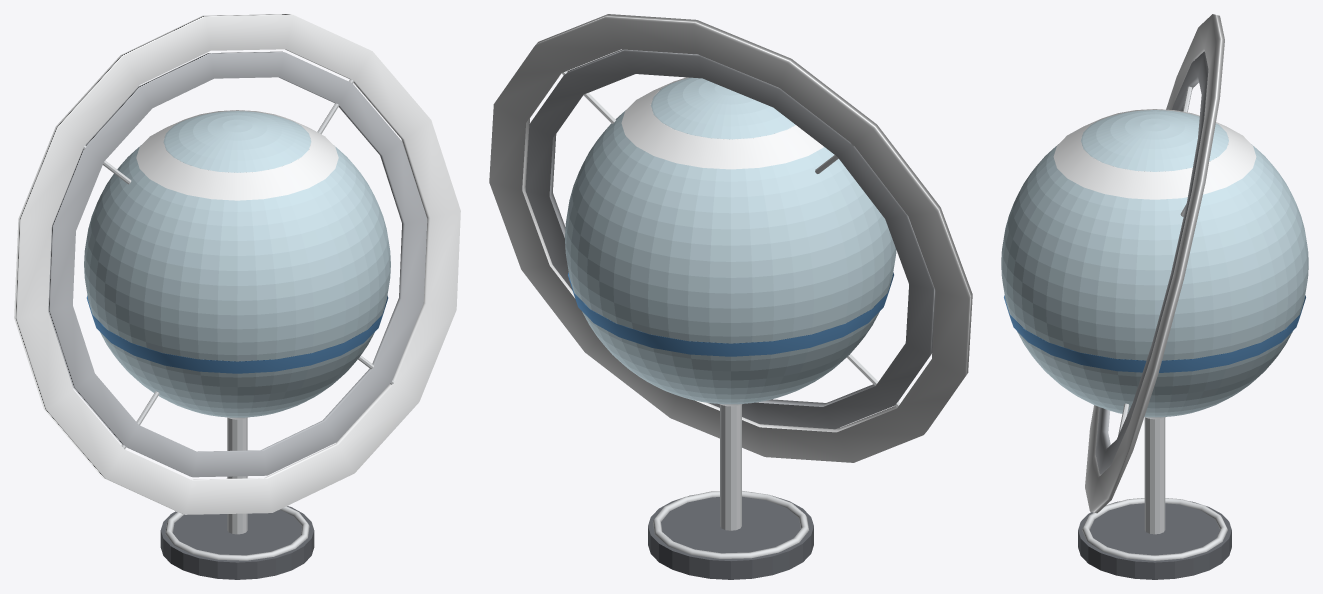
File: solar-system-and-astronauts-uranus-model-99f732c5__39236.glb
3 views of the same model, side by side, from view 1: azimuth 30°, elevation 25°; view 2: azimuth 150°, elevation 25°; view 3: azimuth 270°, elevation 25° (orthographic). The views are drawn at different scales.
Visible parts, largest first — view 1: uranus-model; view 2: uranus-model; view 3: uranus-model.
Boxes of the visible parts, x1,y1,x2,y2 form: uranus-model: (14,14,460,579); uranus-model: (489,14,972,579); uranus-model: (1001,14,1308,579).
Bounding box in the file's own units: 0.8 × 0.8764 × 0.48.
